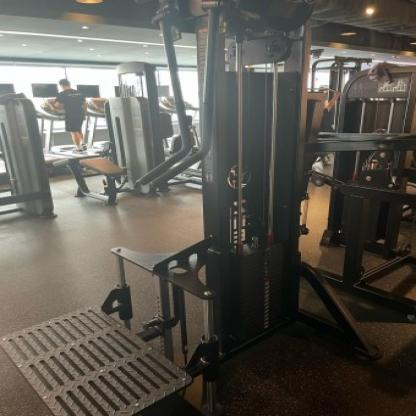lateral raises machine: (115, 1, 312, 414)
